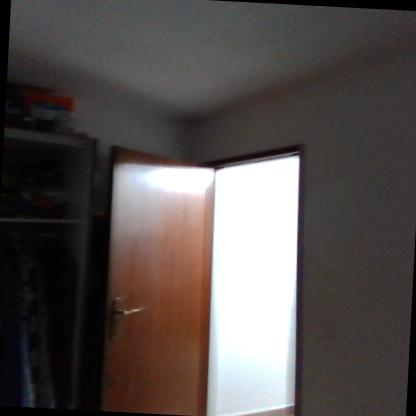open: (77, 128, 329, 416)
